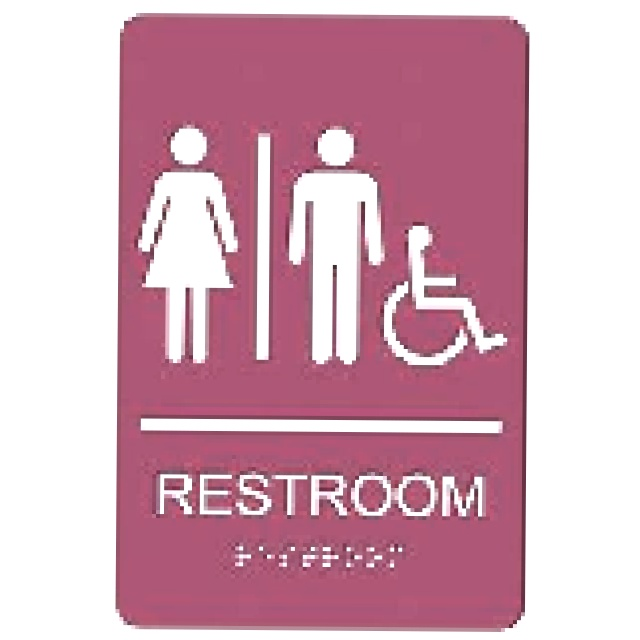ISA: (382, 219, 507, 366)
